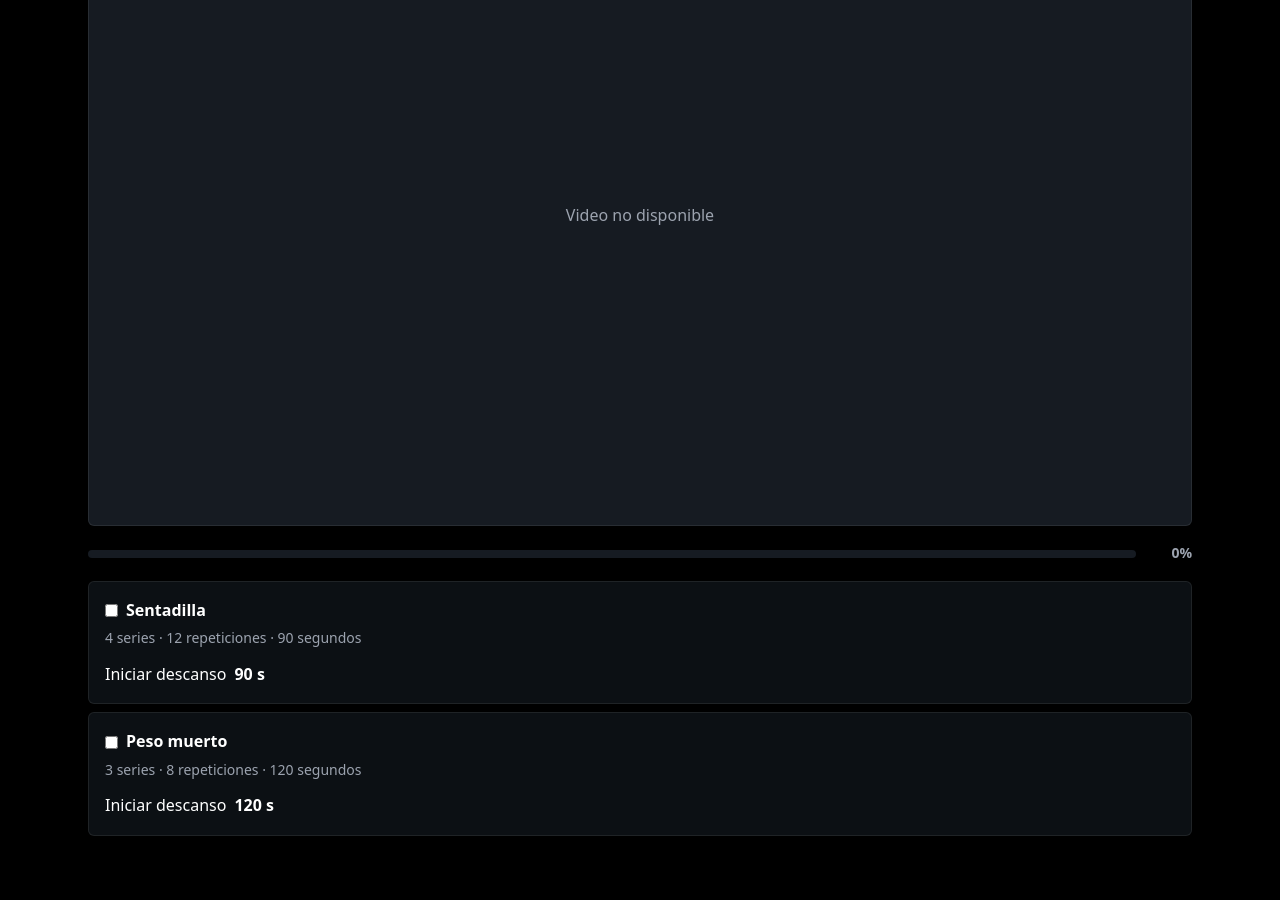
Test case: ReproductorEntrenamiento › Dado un temporizador de descanso iniciado Cuando la cuenta alcanza 0 Entonces anuncia "Descanso finalizado" en una región aria-live
(page scrolled)
Click the button "Iniciar descanso" below "Sentadilla": coordinates (166, 675) [105,662,226,687]
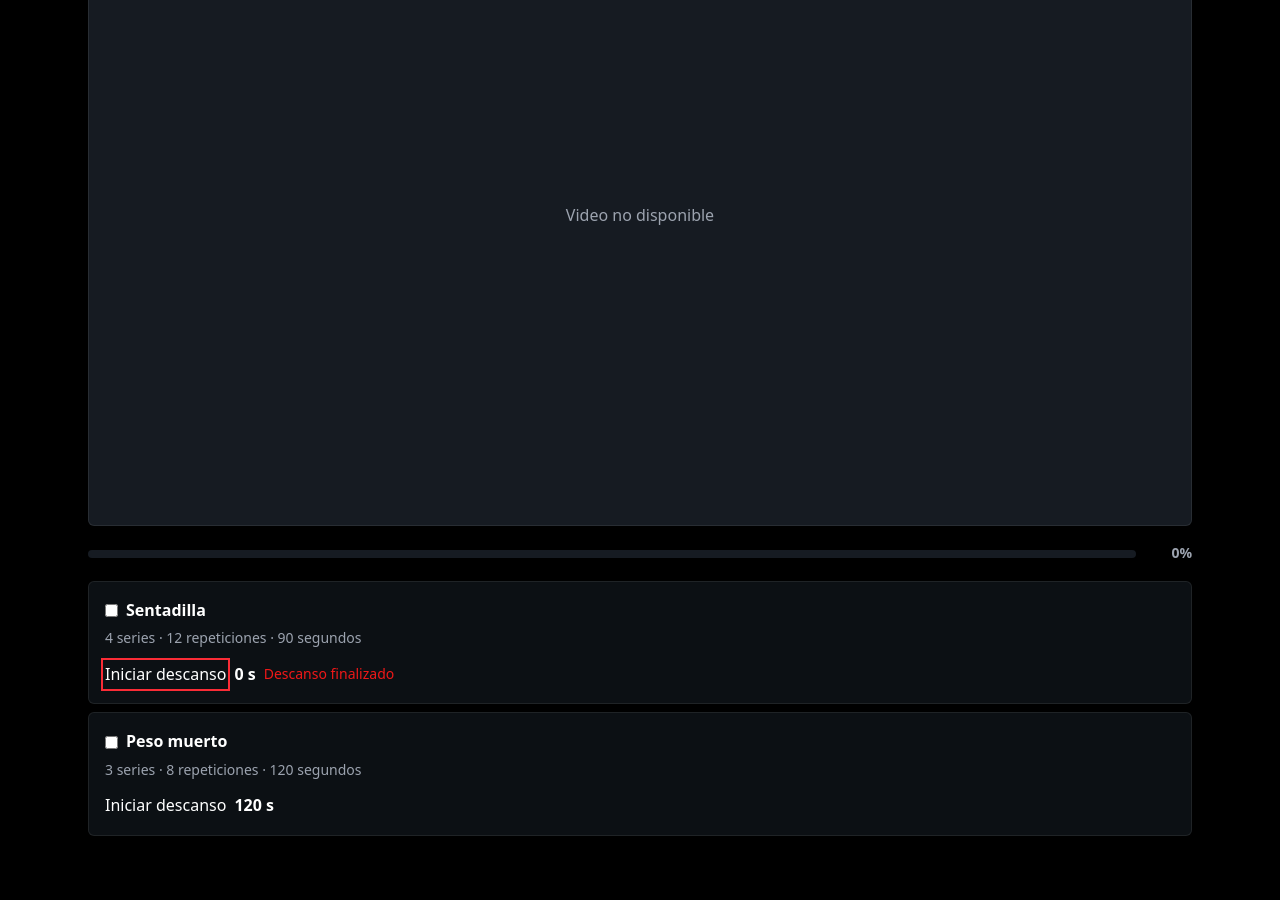
expect the message reads "Descanso finalizado": met, box [264,664,394,683]
